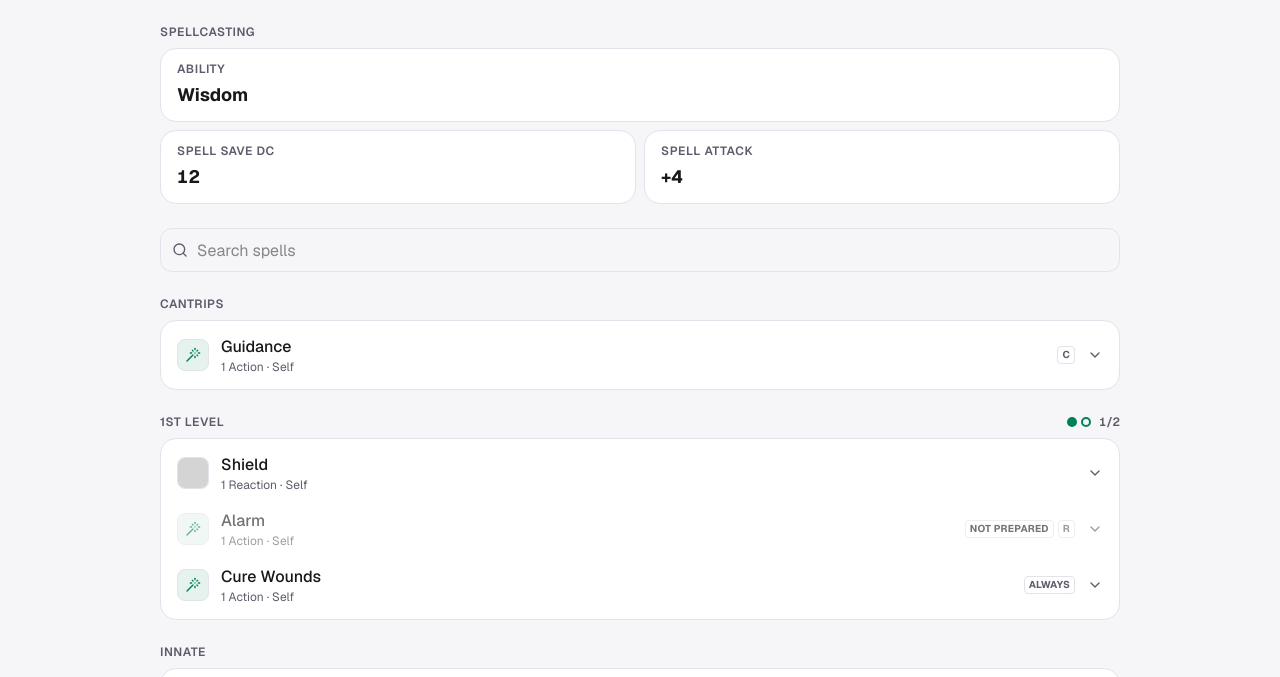
Test: components/character-sheet/spells-tab › names a spell's materials, and that one isn't prepared
Click the text "Alarm": (243, 521) [221, 509, 265, 533]
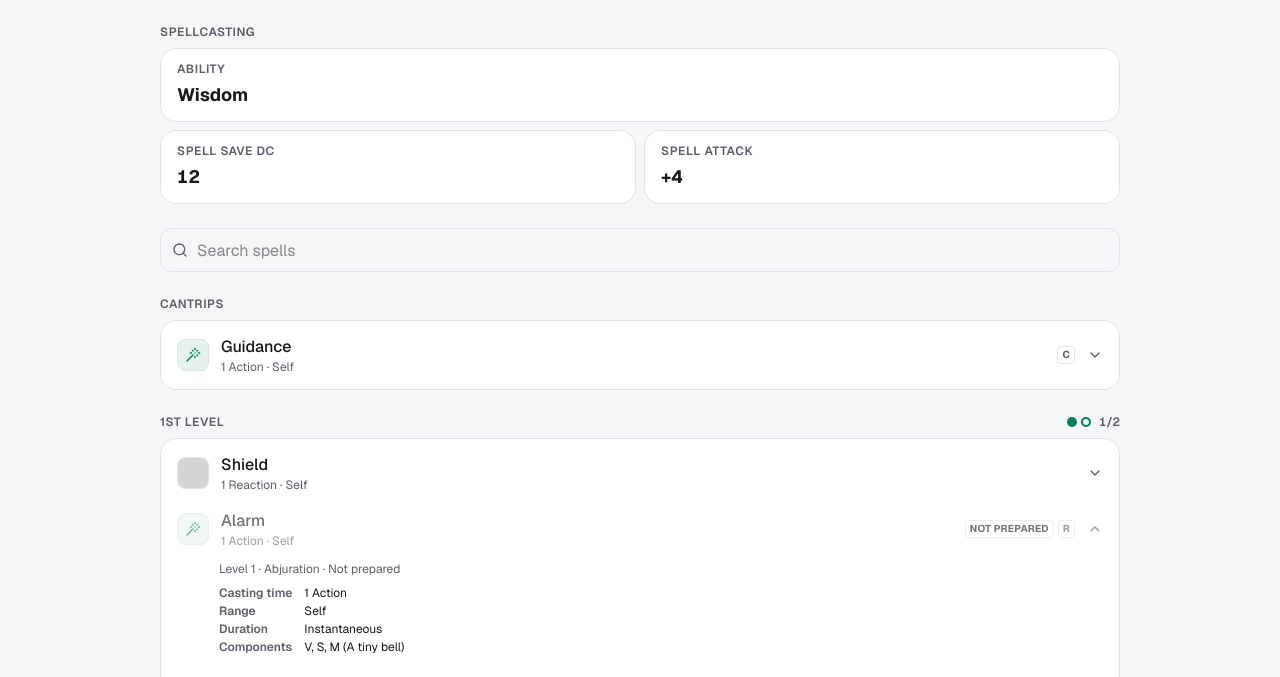
Expected: the text "Level 1 · Abjuration · Not prepared" is shown, [219, 561, 400, 577]
Expected: the text "V, S, M (A tiny bell)" is shown, [304, 639, 404, 655]
